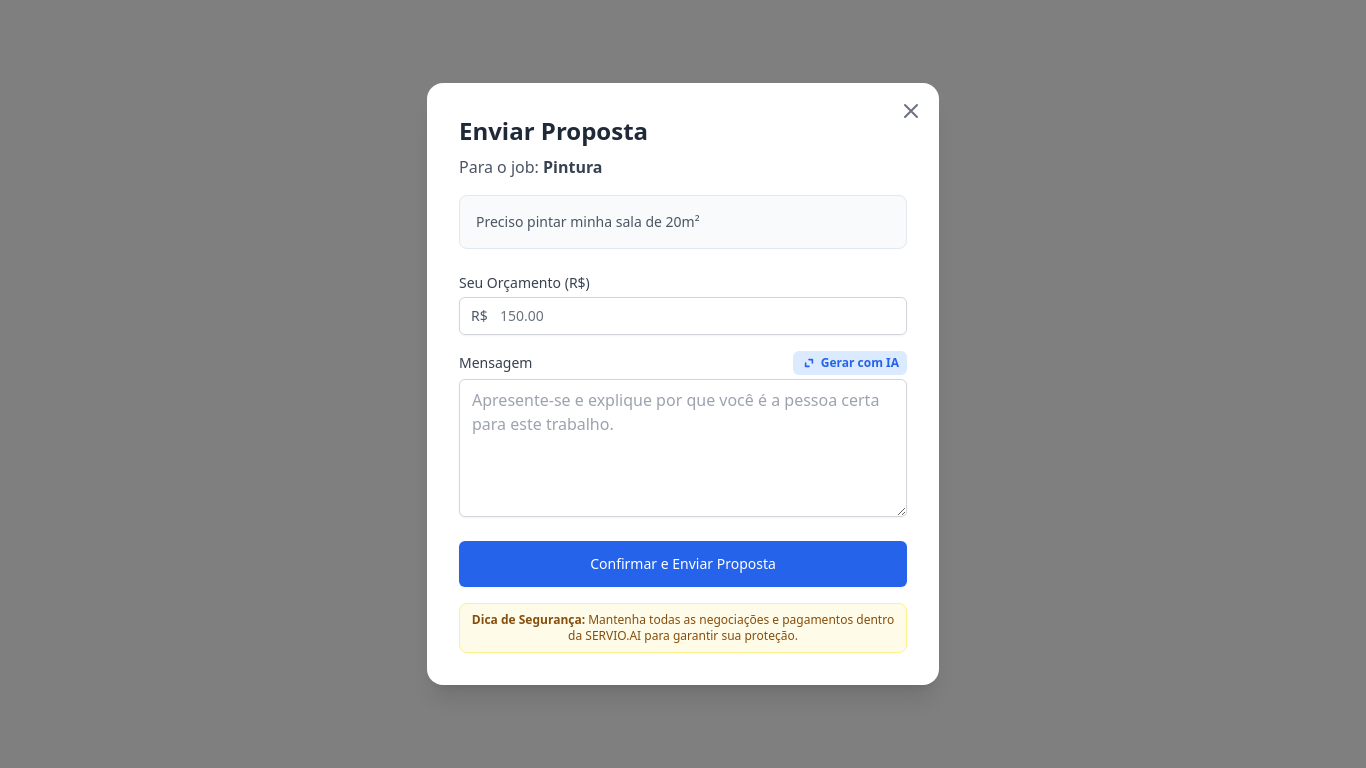
Scenario: ProposalModal › exibe erro quando preço é inválido
The width and height of the screenshot is (1366, 768).
// Tenta submeter com preço negativo
Type "-50" into the number field labelled "Seu Orçamento (R$)".
click(683, 316); type("-50")  # box [459,297,907,335]
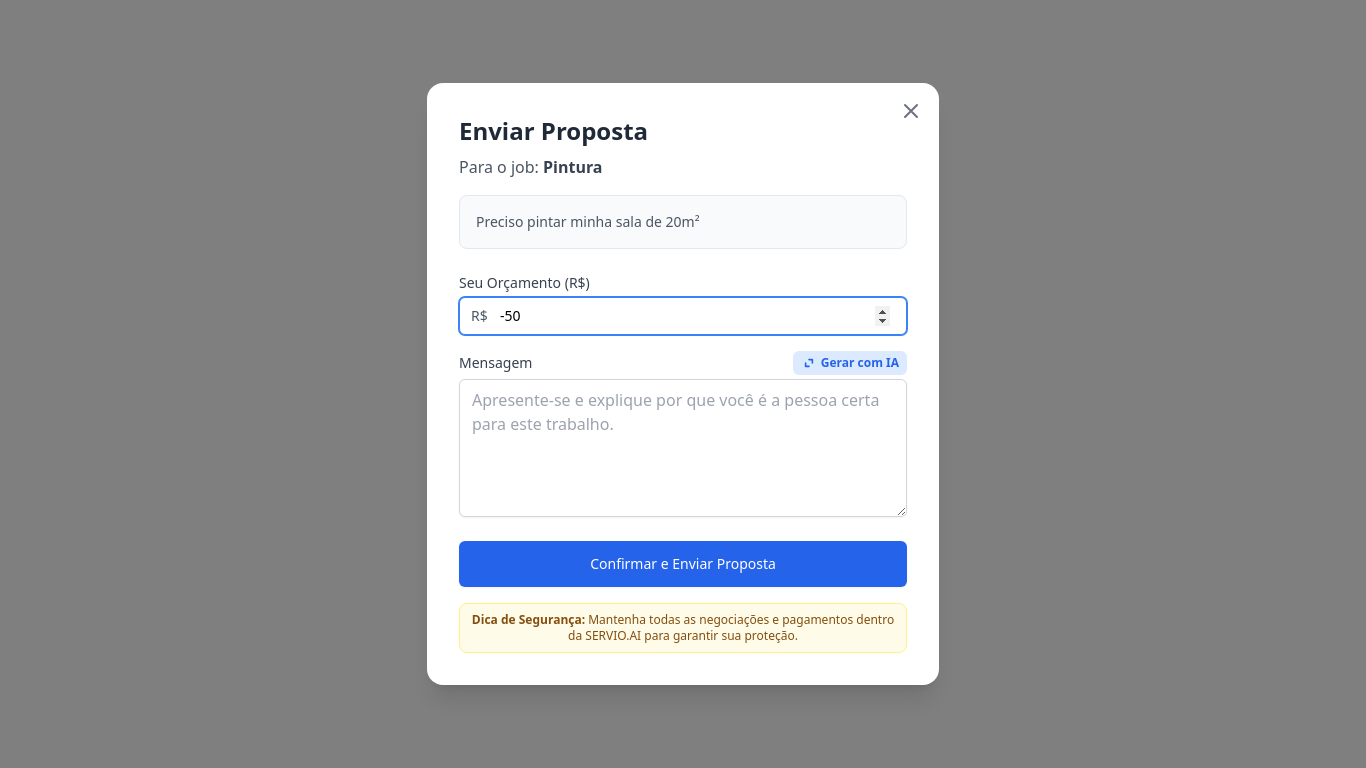
Submit the form "Confirmar e Enviar", box [459,273,907,653]
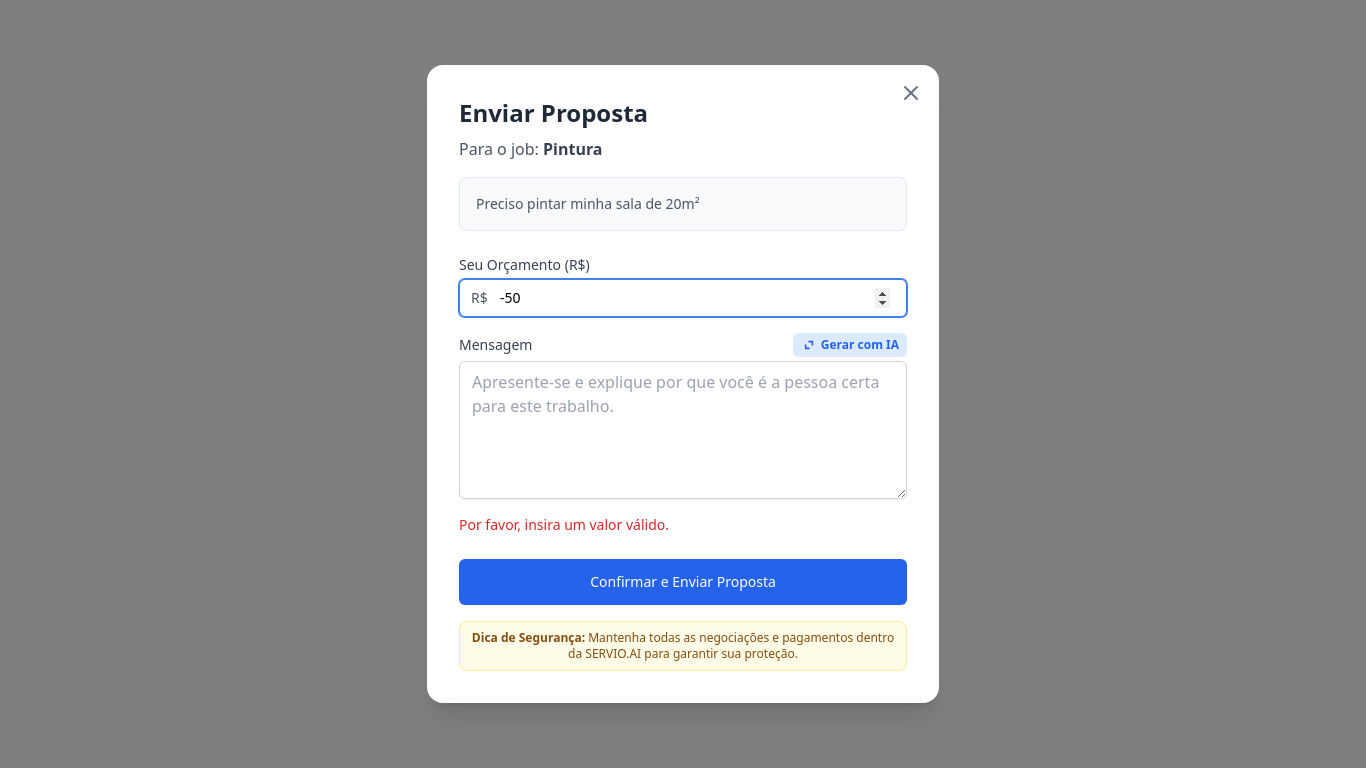
Expected: the text "Por favor, insira um valor válido." is shown, [459,515,669,534]
